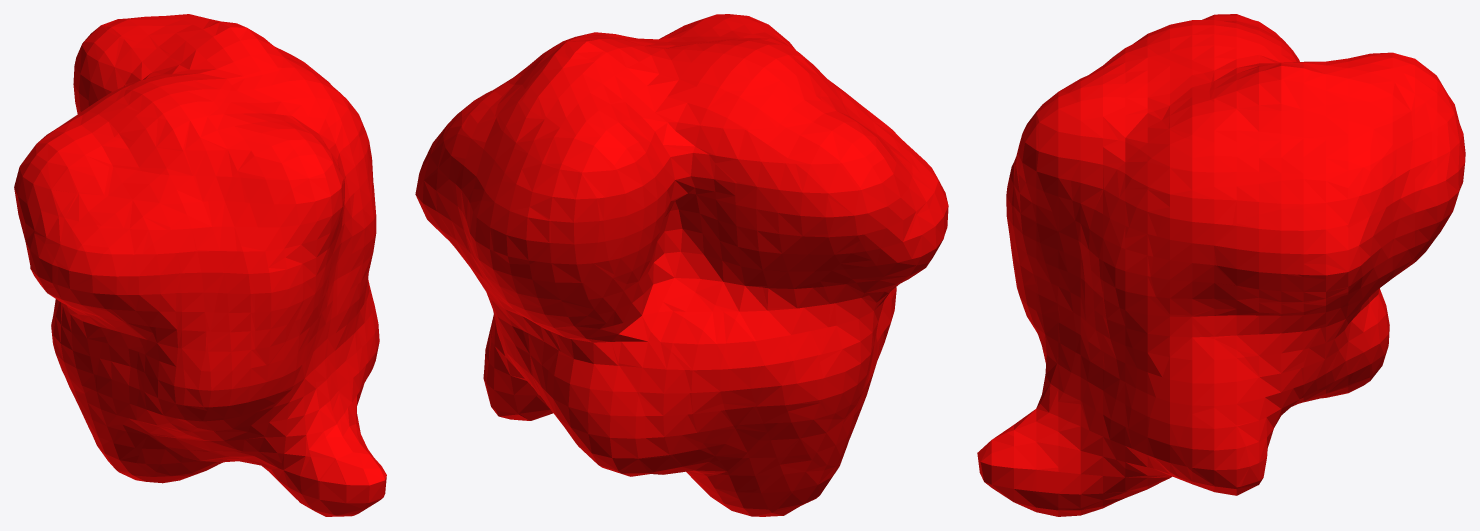
The model's file is ndk_coarse.dae.
The picture shows the model from 3 angles, left to right: view 1: azimuth 30°, elevation 25°; view 2: azimuth 150°, elevation 25°; view 3: azimuth 270°, elevation 25°; orthographic projection. The views are drawn at different scales.
Visible parts, largest first — view 1: ndk; view 2: ndk; view 3: ndk.
Part boxes in pixels (x1=…): ndk: x1=14, y1=14, x2=386, y2=516; ndk: x1=415, y1=14, x2=948, y2=516; ndk: x1=977, y1=14, x2=1465, y2=516.
Bounding box in the file's own units: 39.82 × 42.94 × 42.64.
